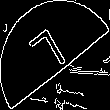L_SE: (32, 26, 78, 84)
